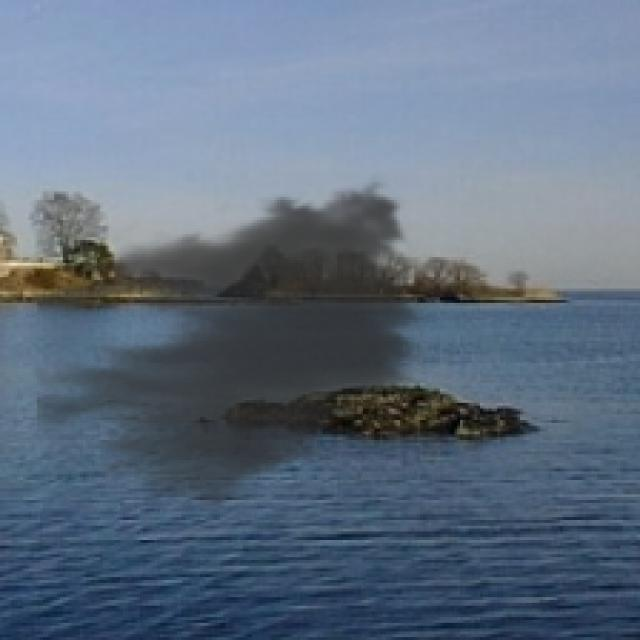smoke: (37, 172, 440, 517)
